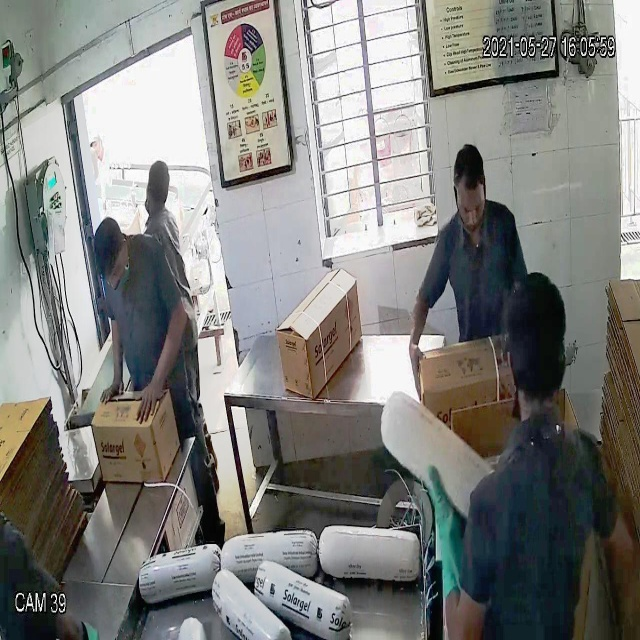Sin_gafas: (450, 187, 493, 227)
